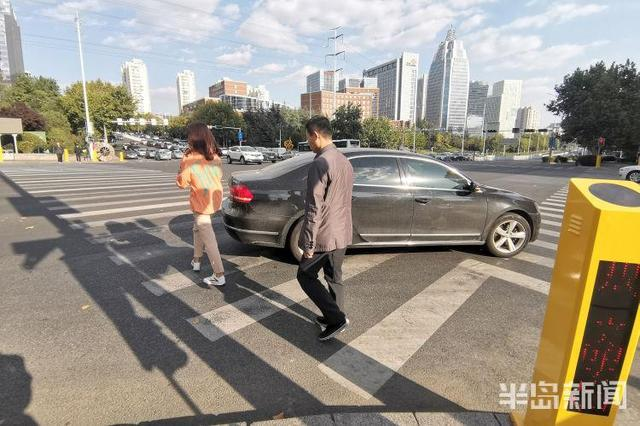car: (223, 146, 540, 257), (226, 145, 264, 164), (618, 163, 640, 182), (260, 149, 278, 162), (154, 149, 174, 160), (276, 149, 293, 160)
person: (289, 123, 357, 340), (175, 123, 228, 289)
